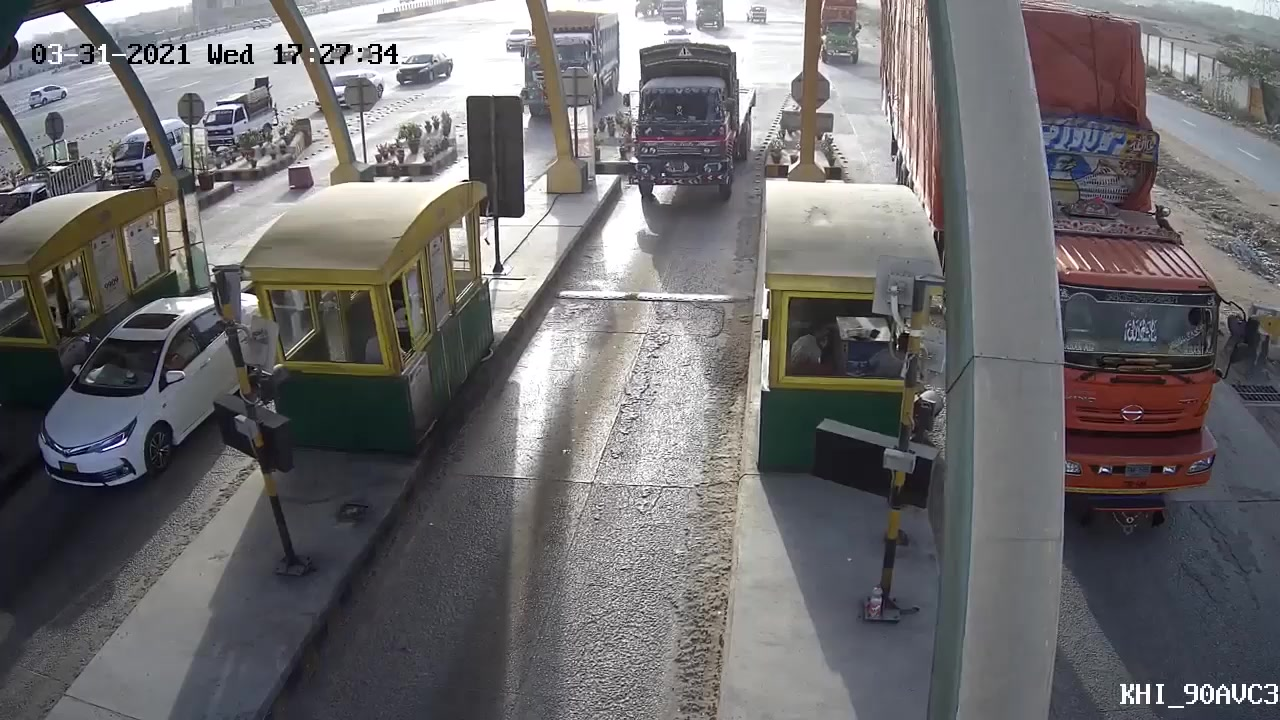F5: (616, 31, 759, 199)
